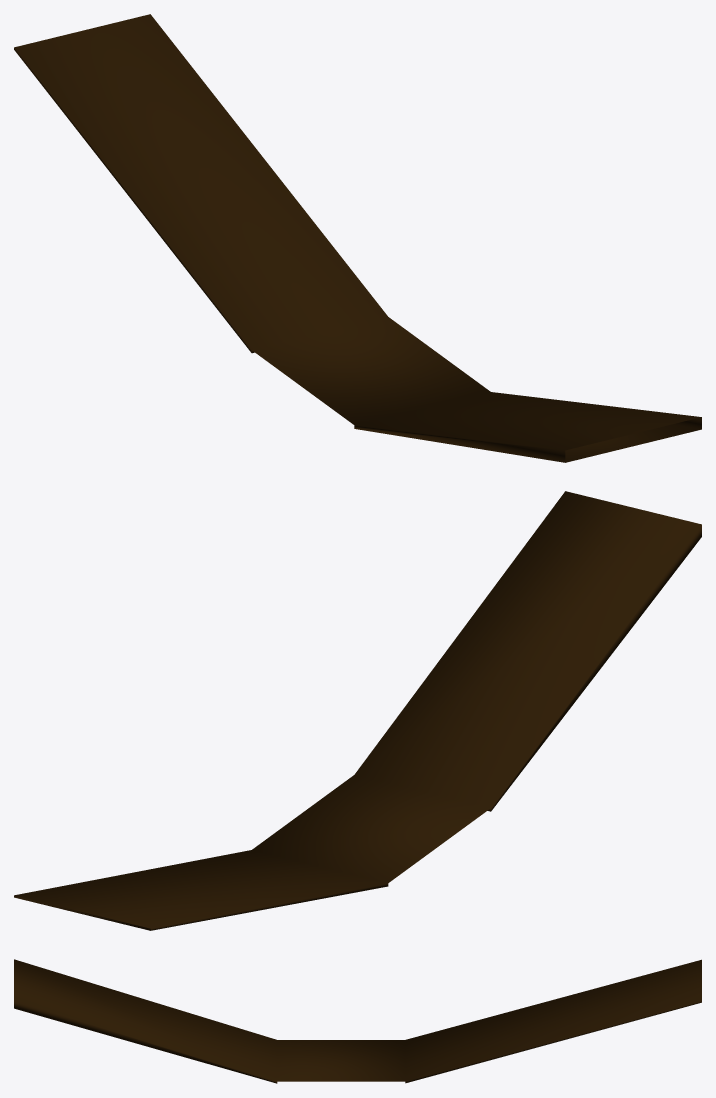
The model's file is Stairs collider.fbx.
3 renders of one model, top to bottom at view 1: azimuth 30°, elevation 25°; view 2: azimuth 150°, elevation 25°; view 3: azimuth 270°, elevation 25°, orthographic. The views are drawn at different scales.
Parts seen in each view (by area): view 1: underground stairs collider; view 2: underground stairs collider; view 3: underground stairs collider.
Boxes of the visible parts, <box> form: underground stairs collider: <box>14,14,701,462</box>; underground stairs collider: <box>14,491,701,930</box>; underground stairs collider: <box>14,959,701,1083</box>.
Size of the model in its own units: 450 by 3145 by 418.
